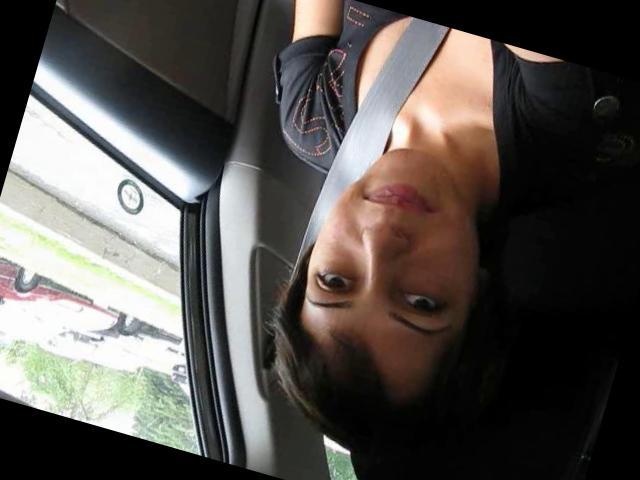eye_open: (391, 276, 458, 328), (305, 258, 363, 304)
face: (284, 124, 510, 374)
